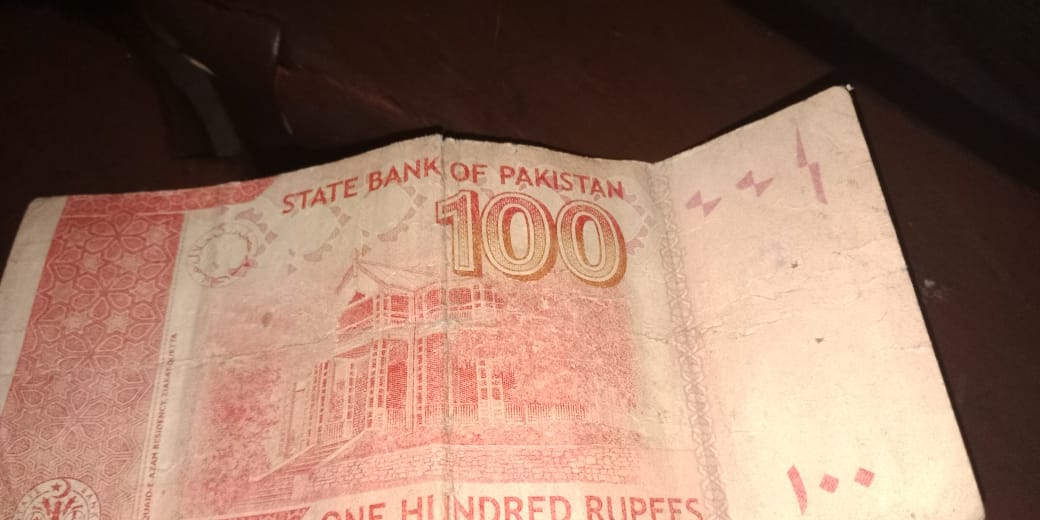100 rupee: (0, 96, 997, 520)
